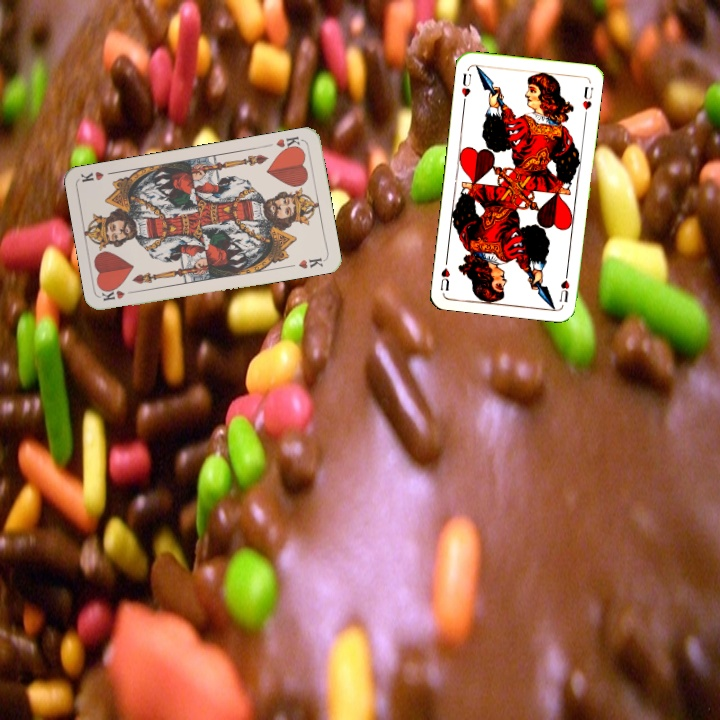HK: (98, 285, 139, 303), (272, 133, 305, 154)
HU: (555, 266, 572, 305), (457, 69, 474, 99)
